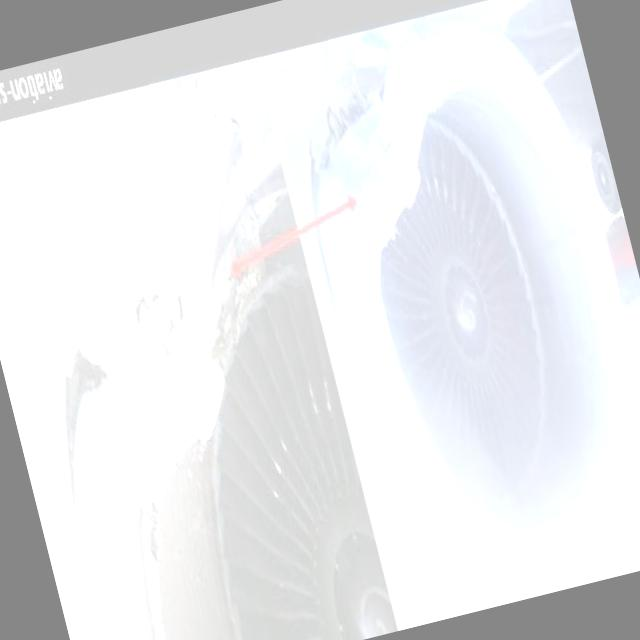crack: (211, 196, 355, 364), (63, 345, 108, 516), (159, 291, 182, 345)
dent: (328, 23, 436, 242), (101, 570, 141, 640)
